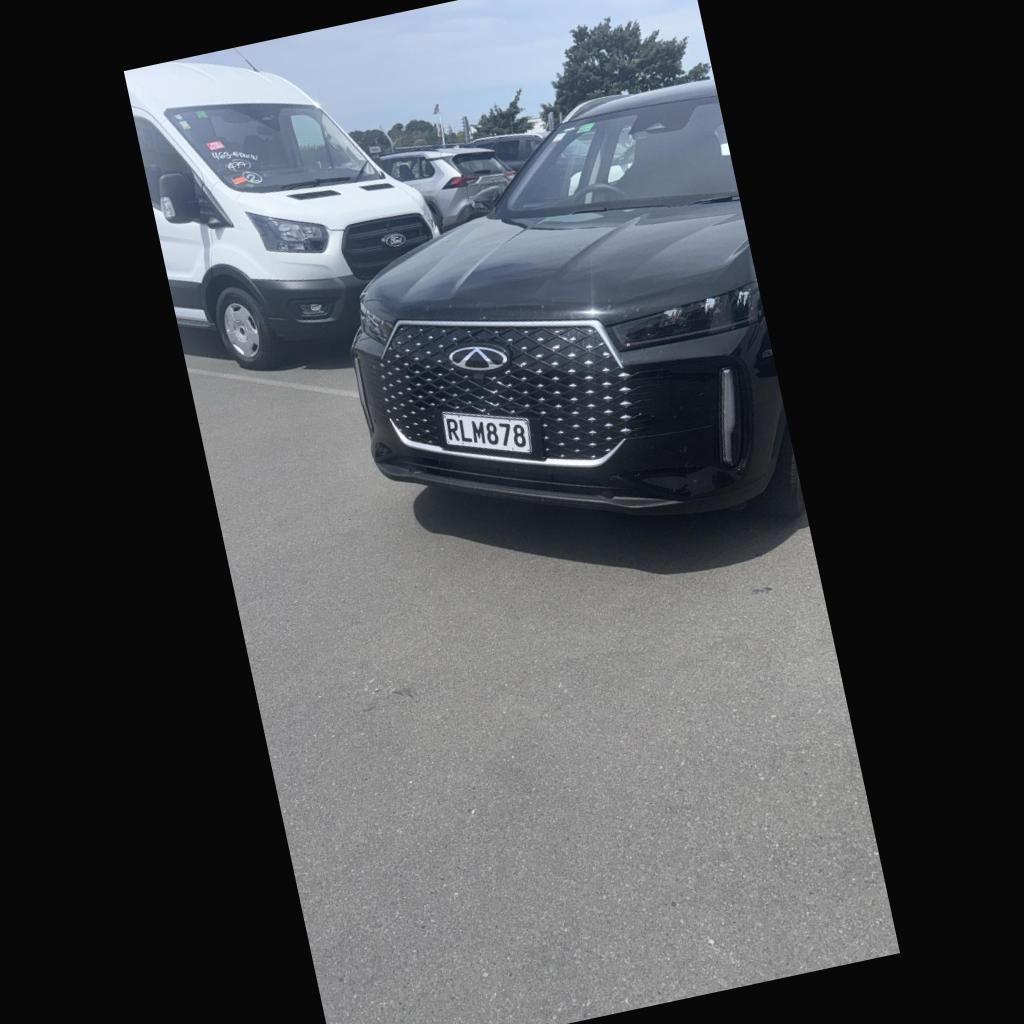Number-Plates: (431, 406, 548, 473)
